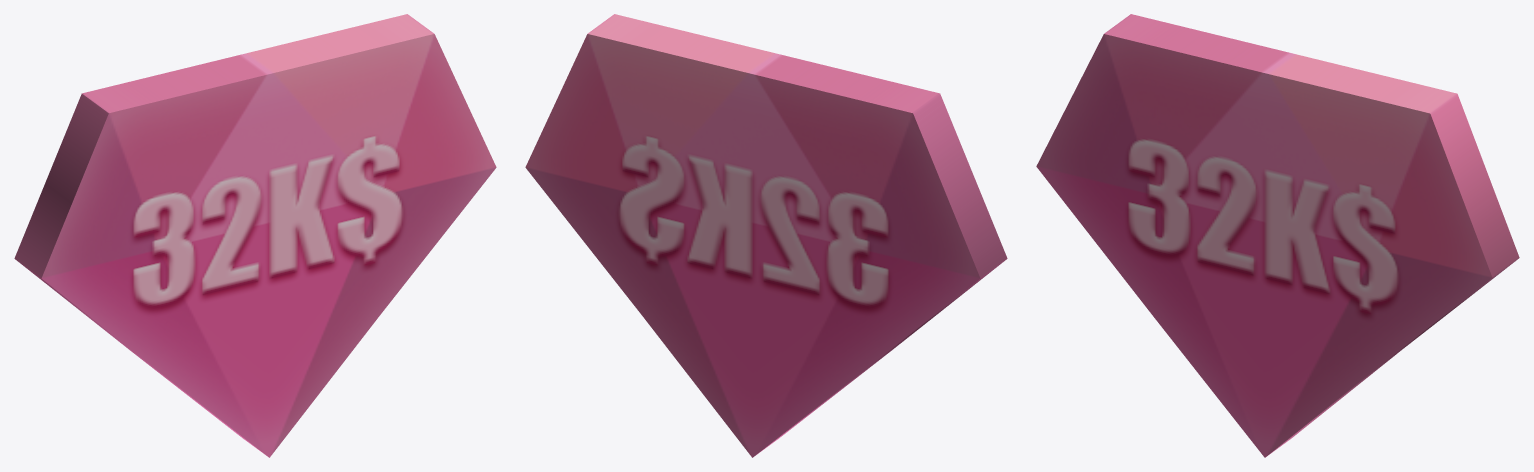
File: 18_32KDollars.fbx
The picture shows the model from 3 angles, left to right: view 1: azimuth 30°, elevation 25°; view 2: azimuth 150°, elevation 25°; view 3: azimuth 330°, elevation 25°; orthographic projection.
Visible parts, largest first — view 1: _32KDollars; view 2: _32KDollars; view 3: _32KDollars.
Part boxes in pixels (x1,y1,x2,y2): _32KDollars: (14,14,496,457); _32KDollars: (525,14,1007,457); _32KDollars: (1036,14,1519,457).
Size of the model in its own units: 89.65 by 72.26 by 9.25.
Materials: 1 (1 with a texture image).
